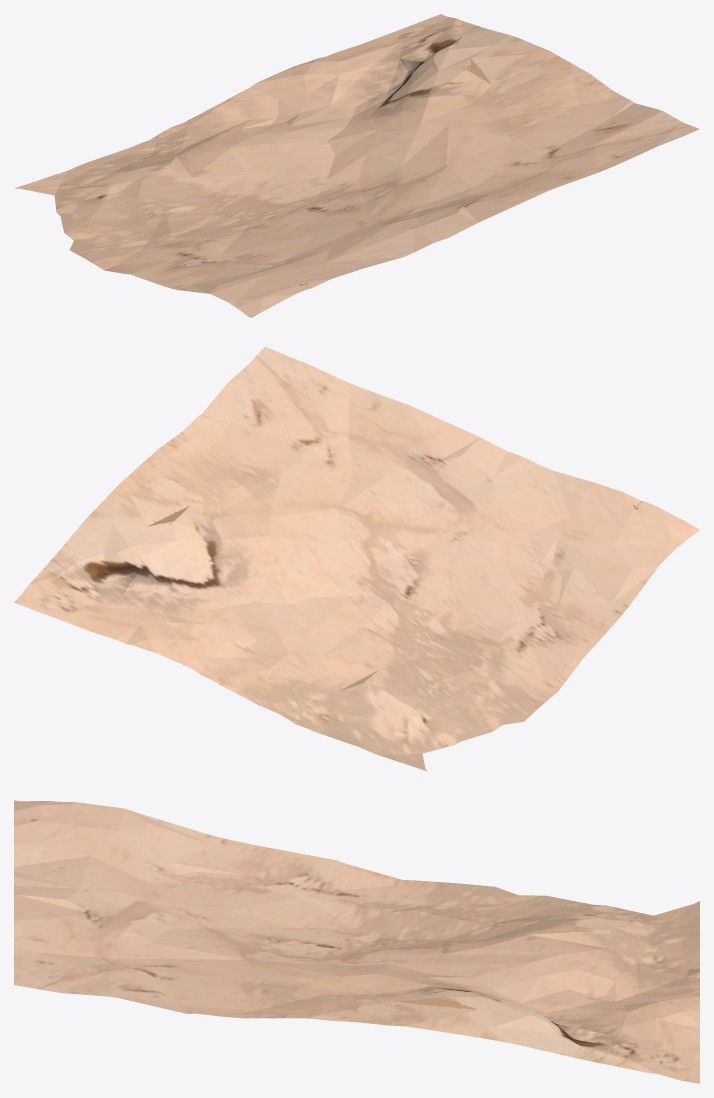
3 views of the same model, one above another, from view 1: azimuth 30°, elevation 25°; view 2: azimuth 150°, elevation 25°; view 3: azimuth 270°, elevation 25° (orthographic). The views are drawn at different scales.
Size of the model in its own units: 1.04 by 0.3219 by 1.04.
Materials: 2 (2 with a texture image).
